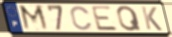7: (46, 5, 65, 32)
C: (69, 5, 94, 31)
E: (90, 5, 120, 32)
K: (140, 6, 164, 32)
M: (18, 4, 51, 32)
Q: (116, 5, 144, 32)
